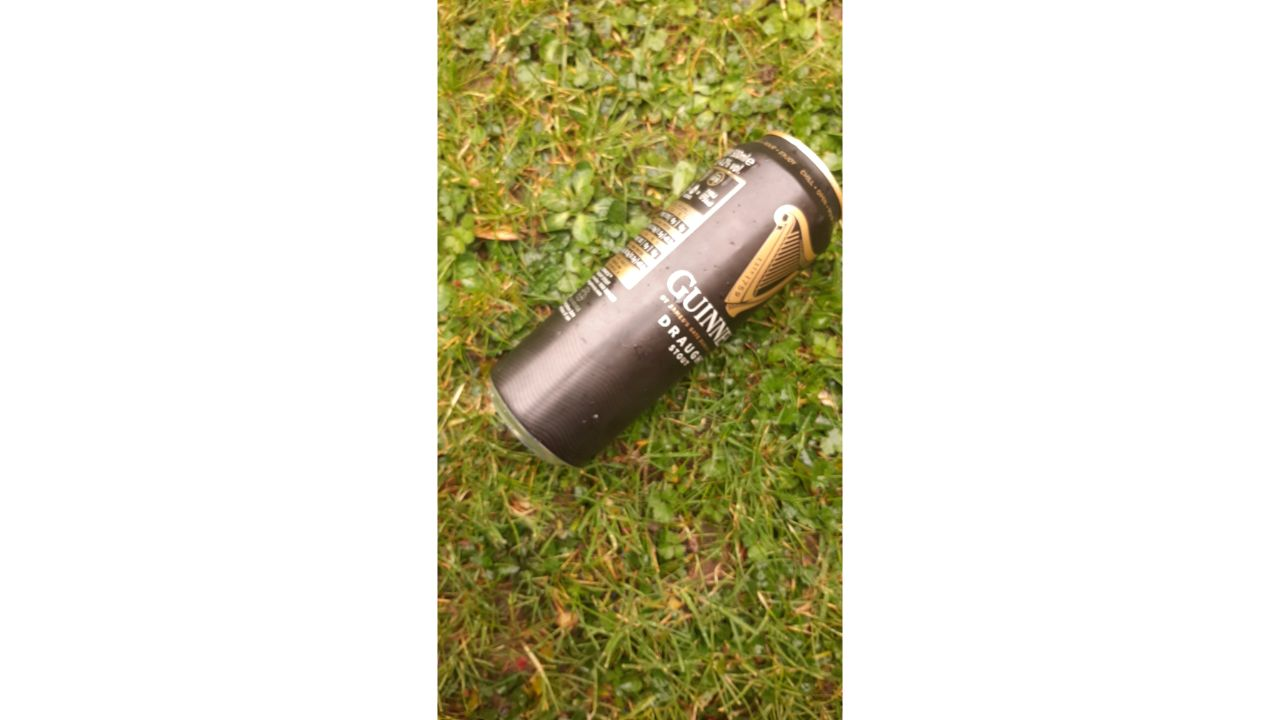Can: (479, 104, 844, 478)
